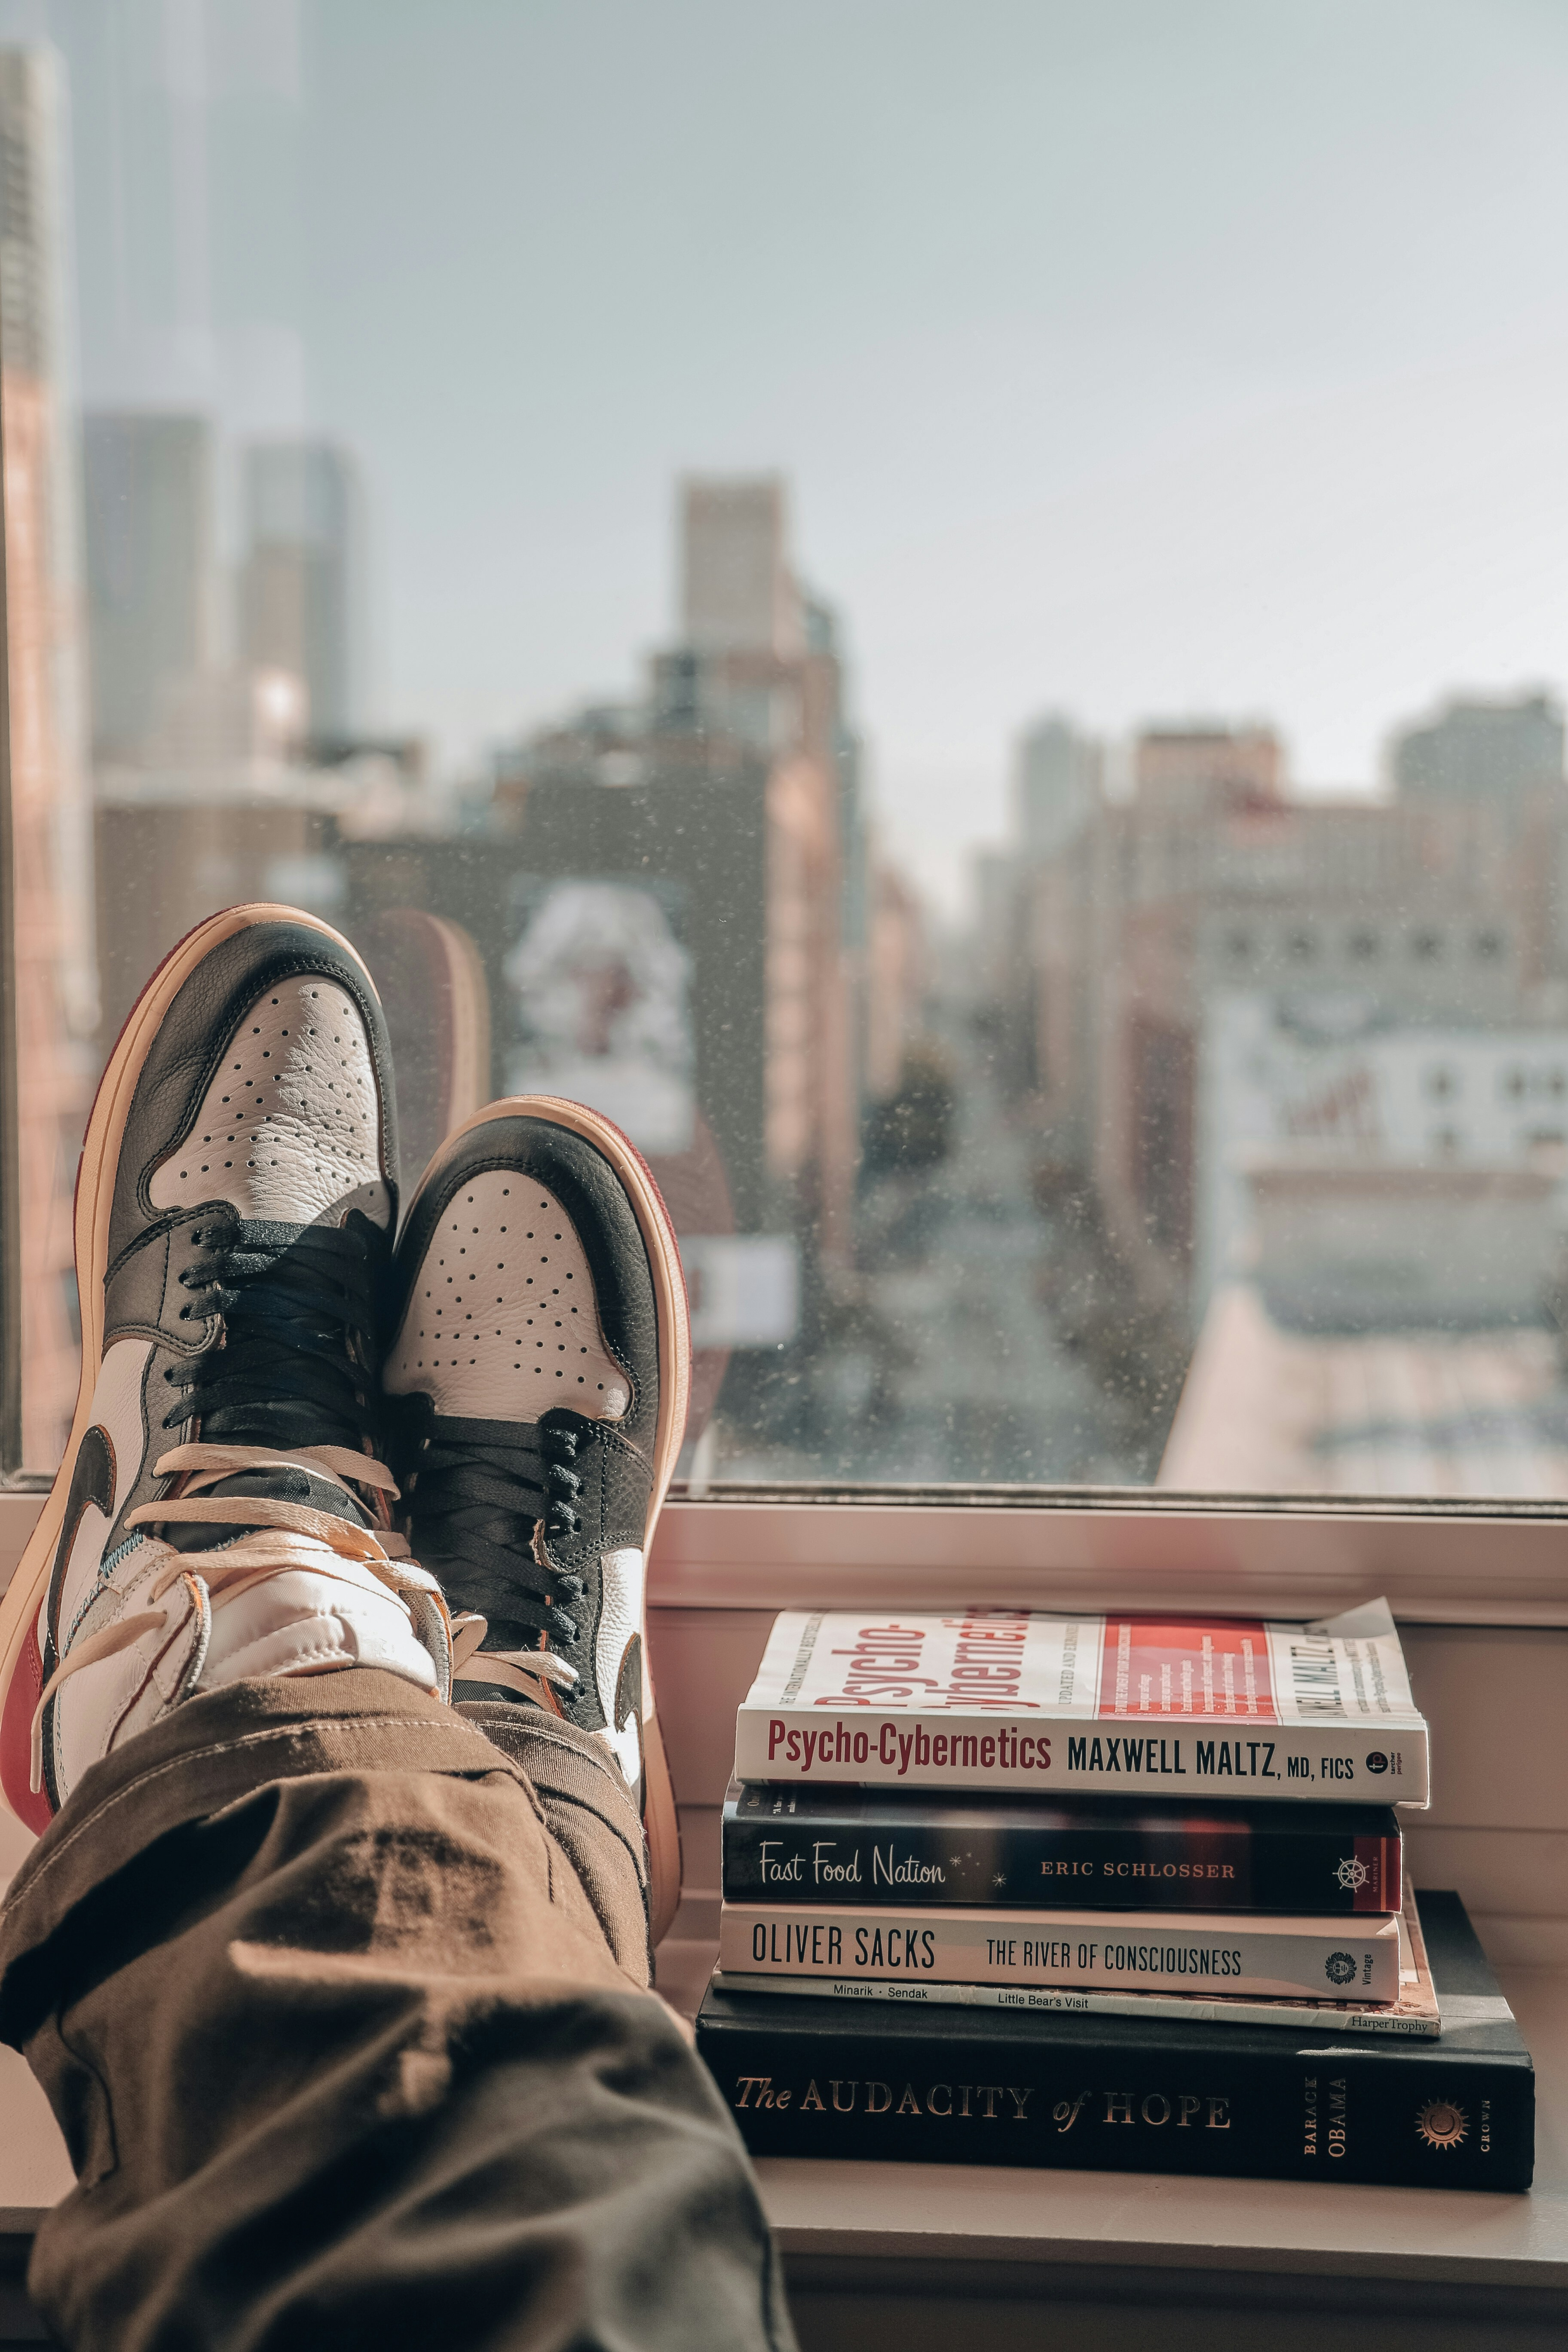Footwear: (23, 821, 682, 1816)
